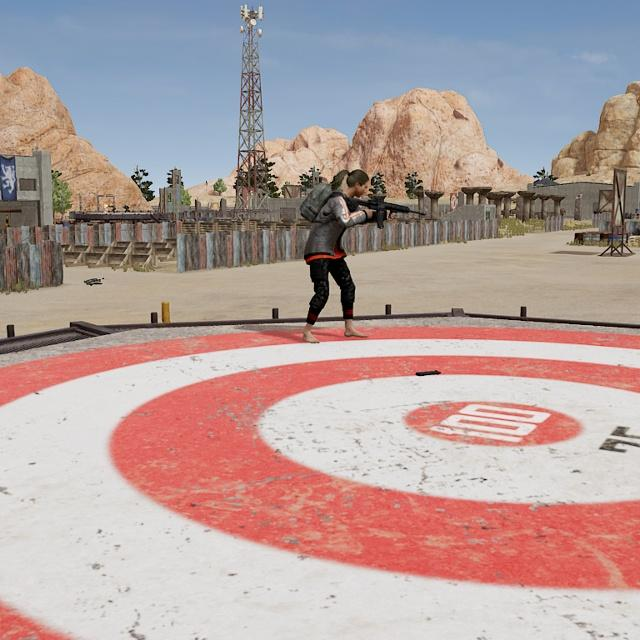head: (346, 169, 370, 199)
people: (299, 168, 374, 344)
